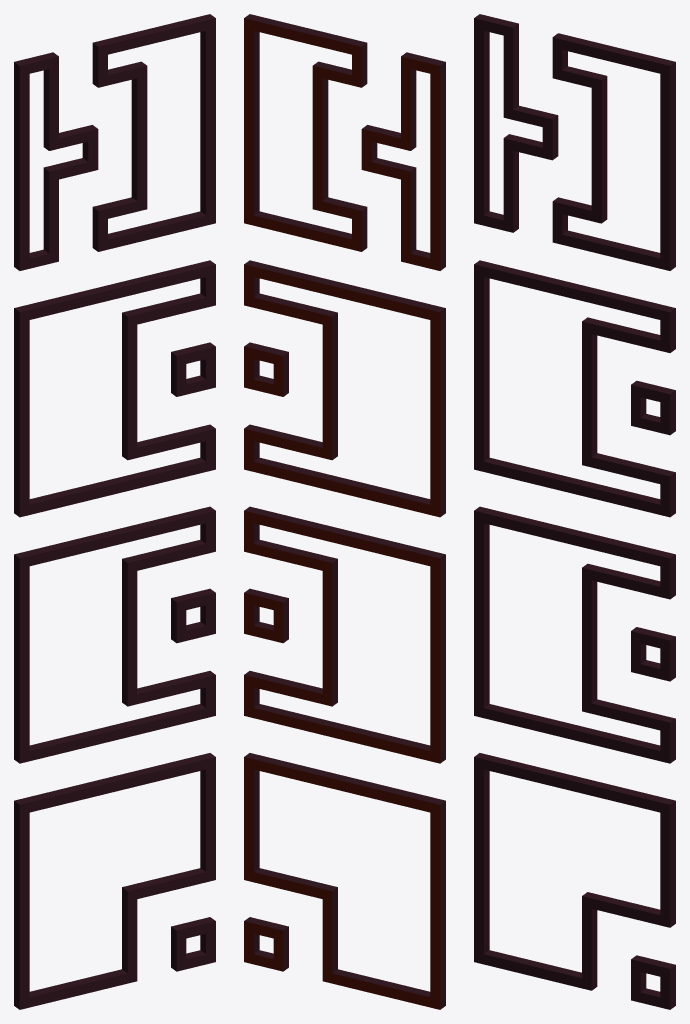
Rendered from neon_goodao.fezao.glb.
3 renders of one model, left to right at view 1: azimuth 30°, elevation 25°; view 2: azimuth 150°, elevation 25°; view 3: azimuth 330°, elevation 25°, orthographic.
Parts seen in each view (by area): view 1: NEON_GOODAO; view 2: NEON_GOODAO; view 3: NEON_GOODAO.
Boxes of the visible parts, bbox=[...] form: NEON_GOODAO: bbox=[14, 14, 215, 1009]; NEON_GOODAO: bbox=[244, 14, 445, 1009]; NEON_GOODAO: bbox=[474, 14, 675, 1009].
Size of the model in its own units: 1.25 by 5.75 by 0.0625.
Materials: 1 (1 with a texture image).
